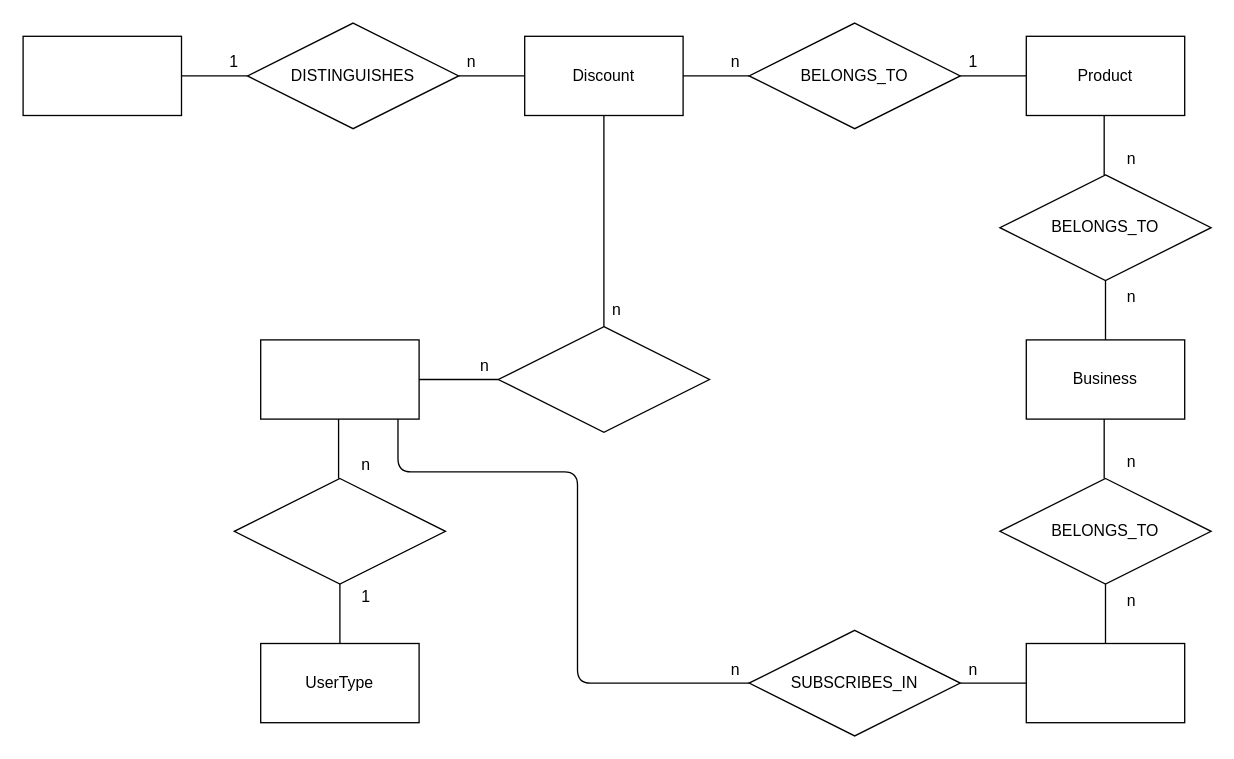
Image size: 1234x759. Some labels were removed from this diagram. The shapes that lost their labels are listed below. From the top down, each one's box as (x1, y1, x2, y2) in pixels, then its label:
(22, 35, 182, 116): DiscountType
(259, 339, 419, 419): User
(497, 325, 710, 432): RESERVED_BY
(233, 477, 446, 584): HAS
(1025, 642, 1185, 723): BusinessCategory
